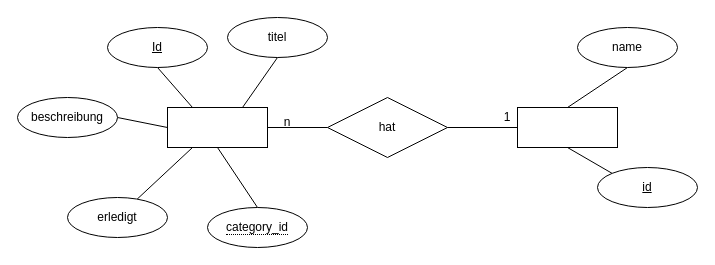
The diagram is 715 pixels wide and 265 high, and some of its shapes have lost their labels. Each missing label, with the centre of its shape:
"Category" belongs at pixel 567 127.
"ToDo" belongs at pixel 217 127.
